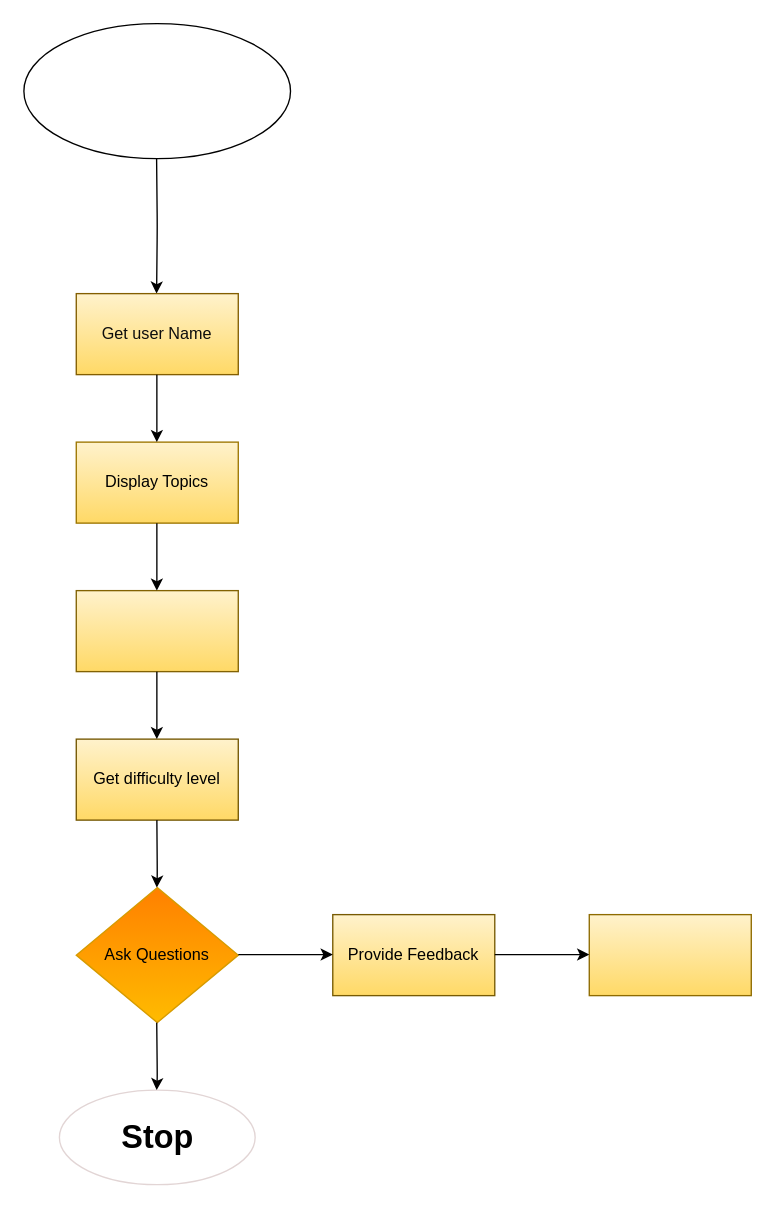
The diagram is 775 pixels wide and 1208 high, and some of its shapes have lost their labels. Here are the shapes that lost their labels. From the top down, the box of each, then its label:
(23, 22, 291, 159): Start
(75, 589, 238, 672): Get Topic Selection
(588, 913, 751, 996): Return to Home or Exit
